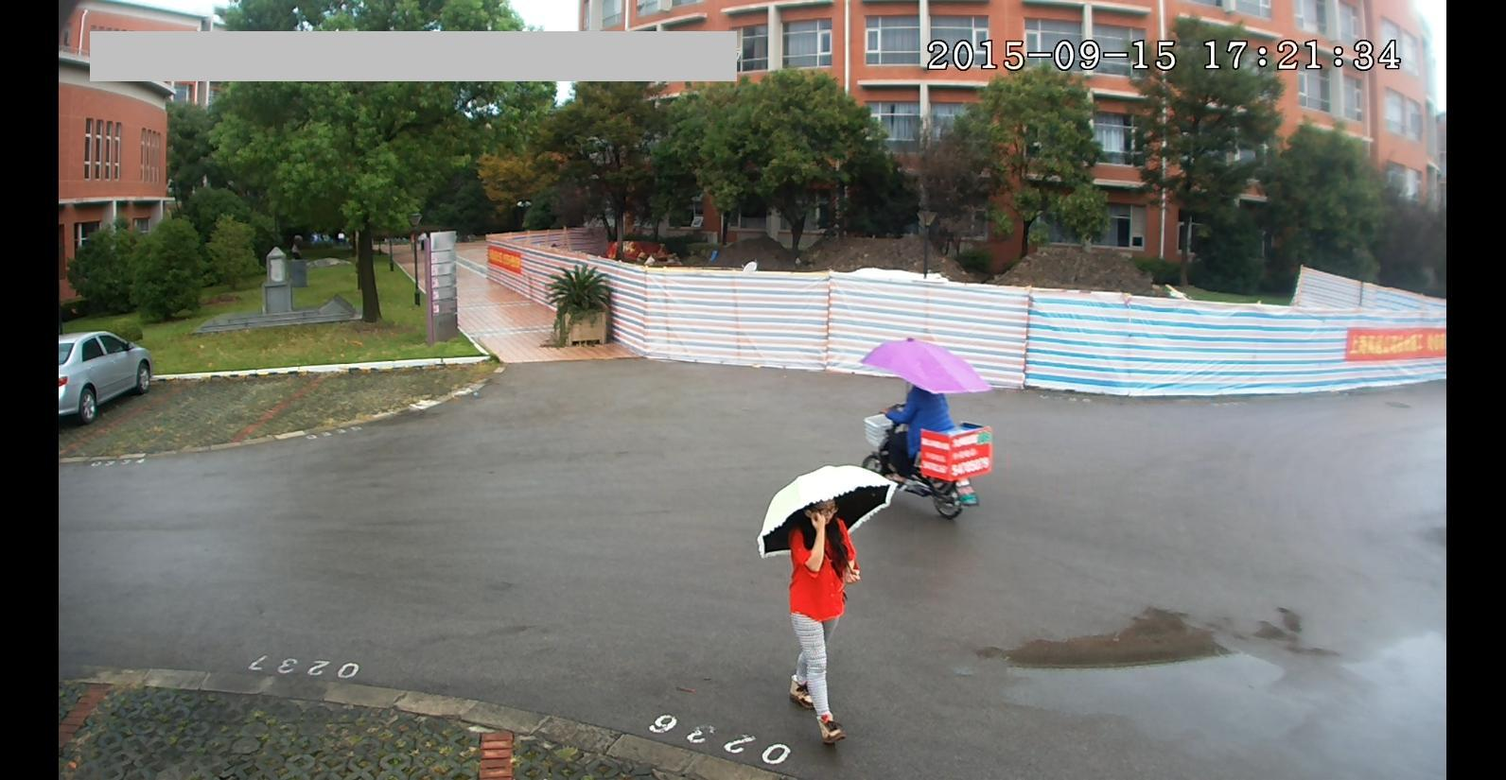person: (787, 495, 869, 746), (884, 361, 957, 462)
